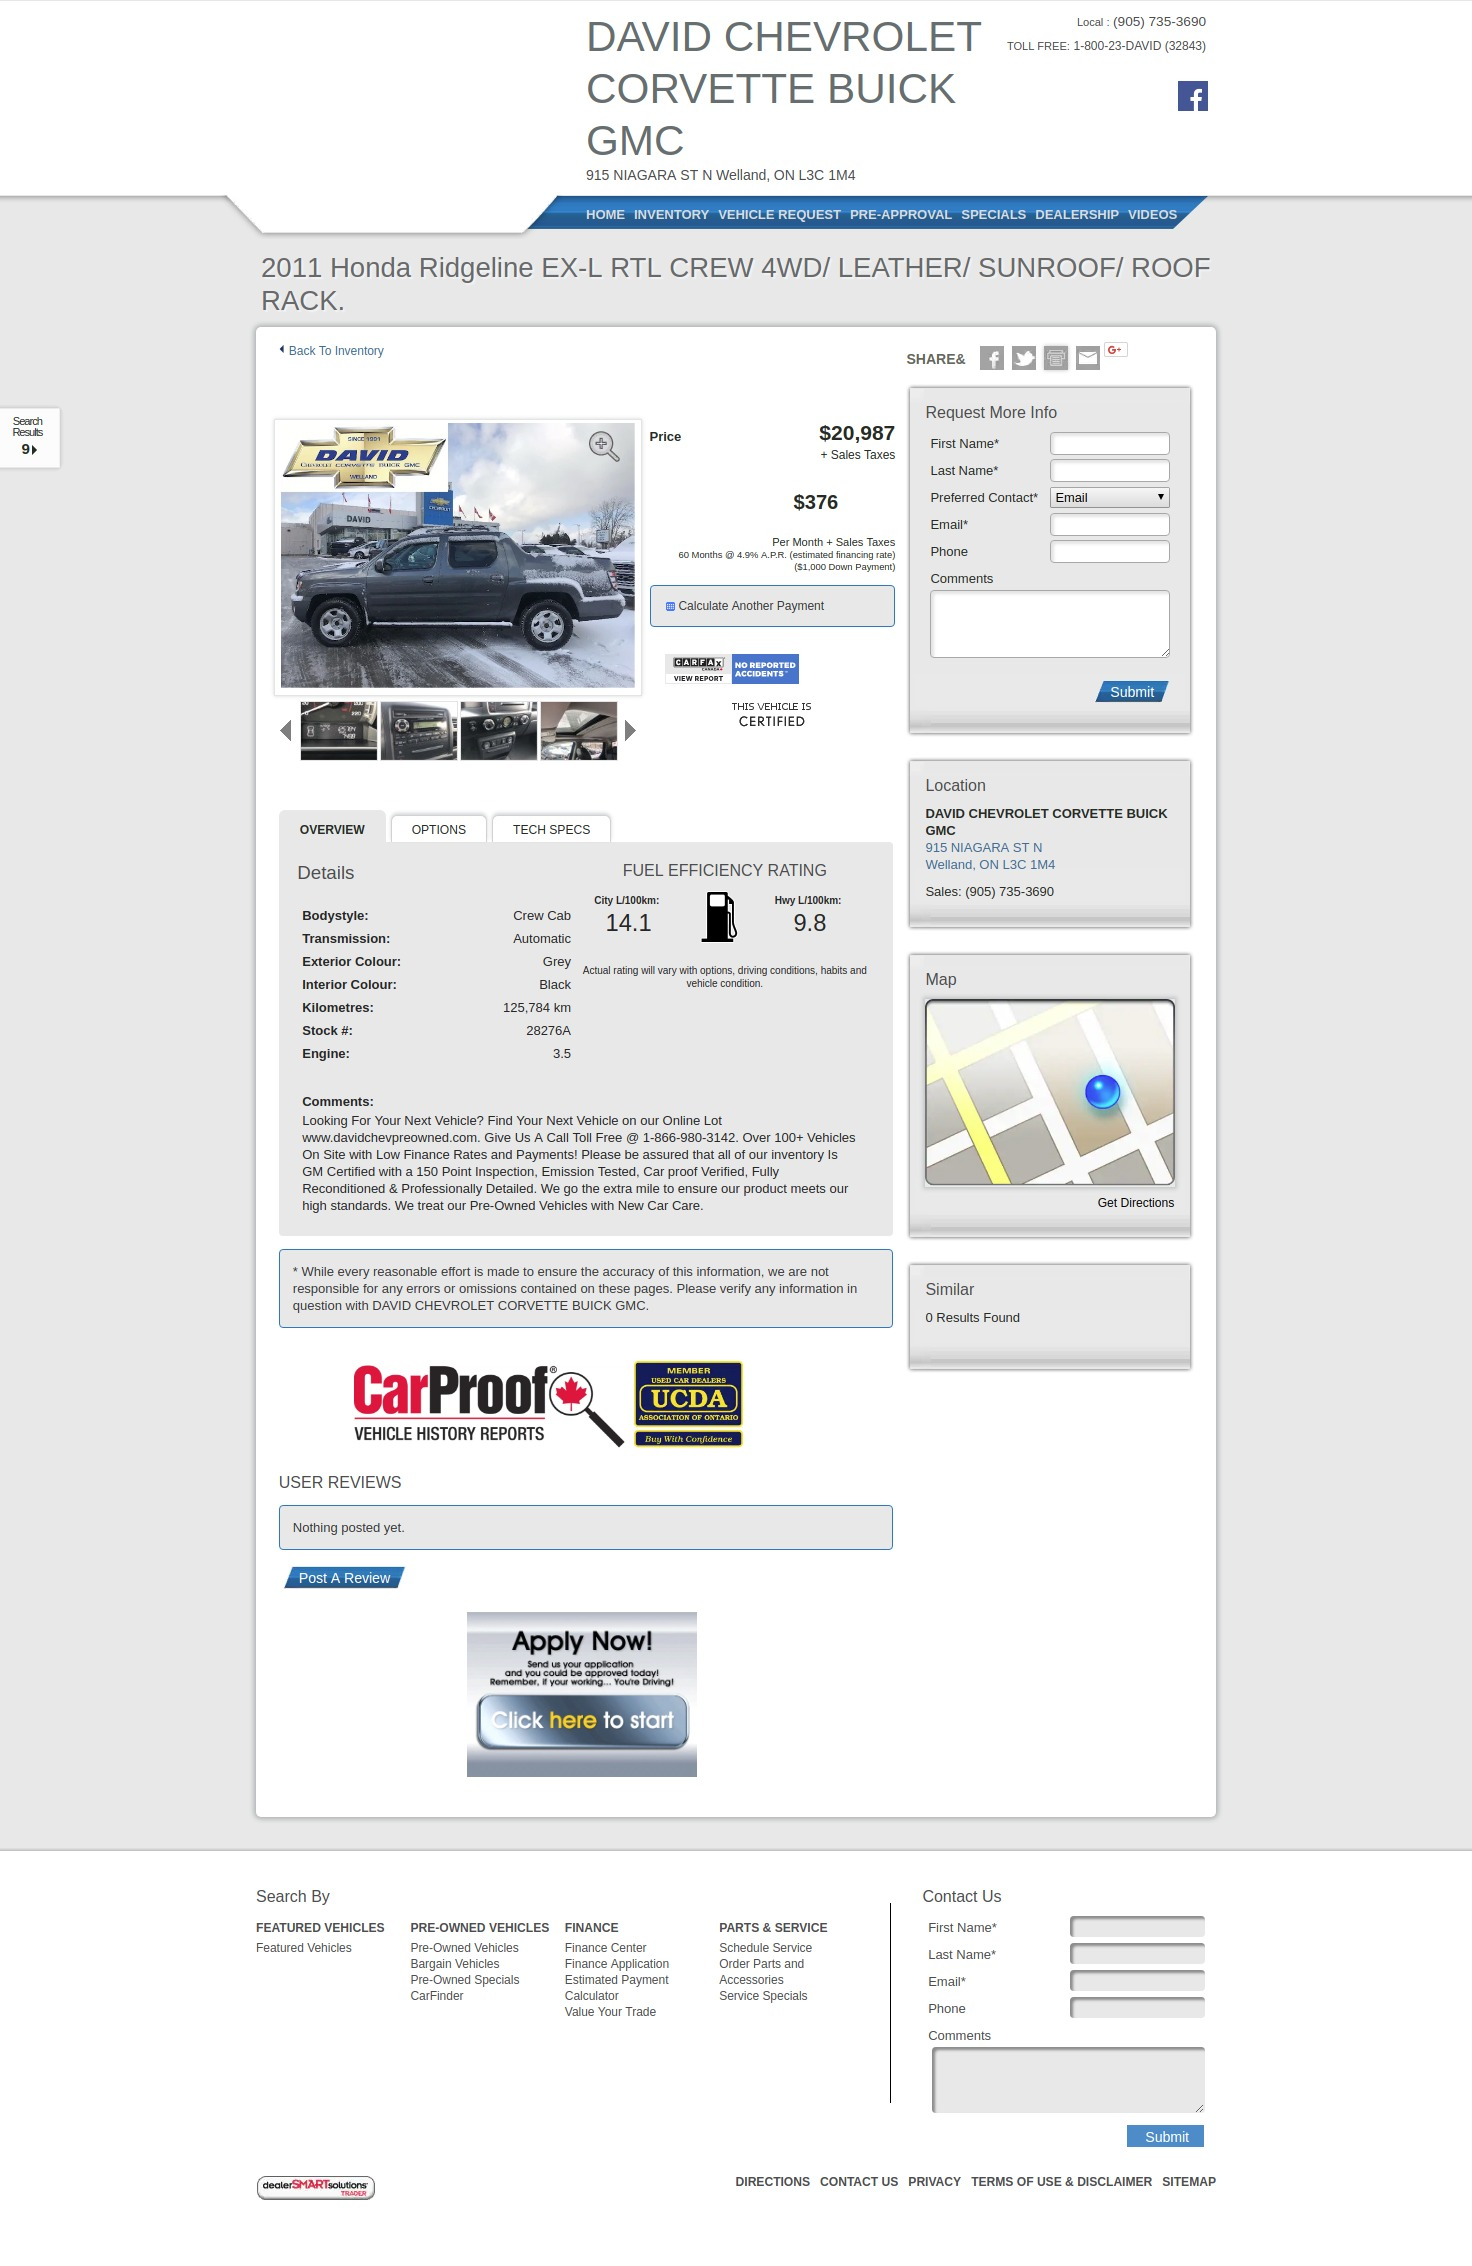car: (624, 720, 638, 742)
